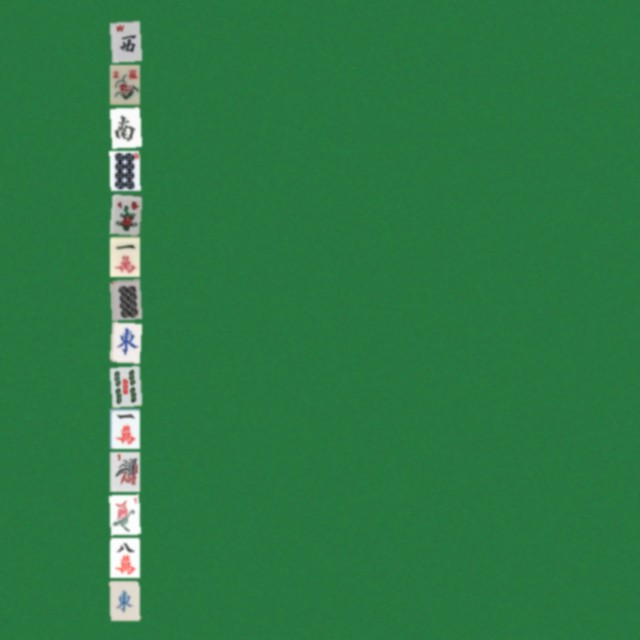tile: (109, 21, 139, 61), (109, 64, 139, 104), (109, 107, 139, 147), (109, 150, 139, 190), (109, 193, 139, 233), (109, 236, 139, 276), (109, 279, 139, 319), (109, 322, 139, 362), (109, 365, 139, 405), (109, 408, 139, 448), (109, 451, 139, 491), (109, 494, 139, 534), (109, 537, 139, 577), (109, 580, 139, 620)
